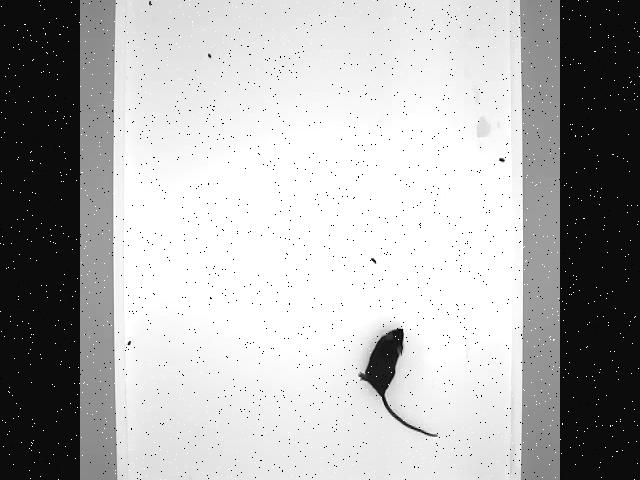Tikus: (355, 324, 443, 441)
